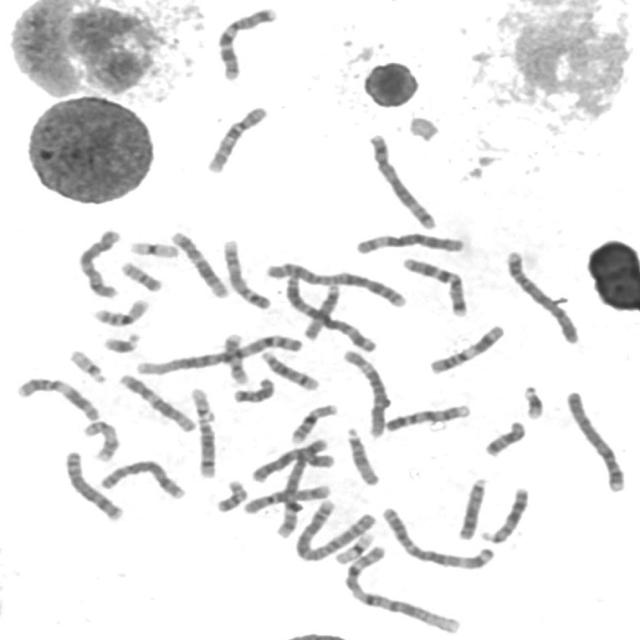A1: (339, 542, 463, 636), (133, 331, 305, 377)
A2: (262, 258, 408, 308), (291, 498, 378, 564)
A3: (280, 270, 378, 354), (377, 502, 498, 570)
B4: (502, 247, 581, 345), (562, 387, 628, 494)
B5: (364, 129, 438, 231), (270, 433, 332, 541)
C10: (202, 102, 270, 174), (238, 480, 333, 516)
C11: (11, 373, 103, 423), (425, 321, 507, 376)
C12: (114, 369, 197, 434), (167, 228, 230, 300)
C6: (339, 346, 391, 440), (351, 229, 467, 256)
C7: (213, 3, 280, 82), (398, 254, 469, 319)
C8: (61, 448, 126, 522), (96, 456, 188, 500)
C9: (218, 236, 273, 312), (381, 401, 472, 434)
D13: (476, 483, 530, 545), (454, 474, 491, 542)
D14: (256, 347, 320, 392), (193, 408, 218, 479)
D15: (300, 280, 343, 341), (342, 424, 382, 487)
E16: (287, 400, 340, 445), (89, 294, 151, 328)
E17: (79, 417, 121, 463), (218, 329, 251, 387)
E18: (481, 417, 528, 458), (229, 374, 276, 404)
F19: (329, 528, 376, 566), (126, 238, 180, 260)
F20: (116, 258, 163, 293), (212, 477, 249, 514)
G21: (99, 329, 143, 355), (519, 382, 546, 421)
G22: (65, 346, 108, 384), (186, 384, 218, 424)
X: (247, 437, 334, 484), (74, 226, 123, 301)
